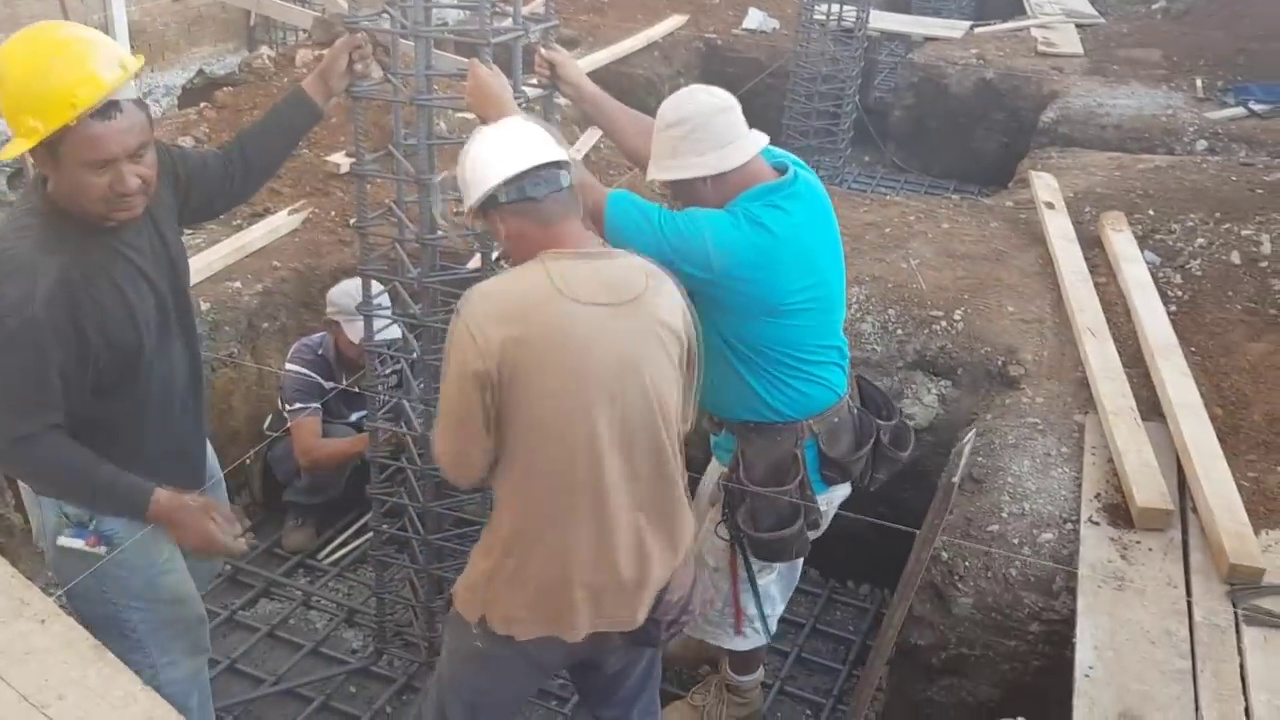helmet: (0, 11, 151, 172), (455, 106, 582, 217)
helmet-off: (634, 78, 776, 219), (317, 273, 412, 364)
helmet-on: (0, 4, 155, 233)
person: (468, 51, 856, 716), (0, 0, 279, 714), (422, 107, 691, 716), (274, 264, 407, 536)
